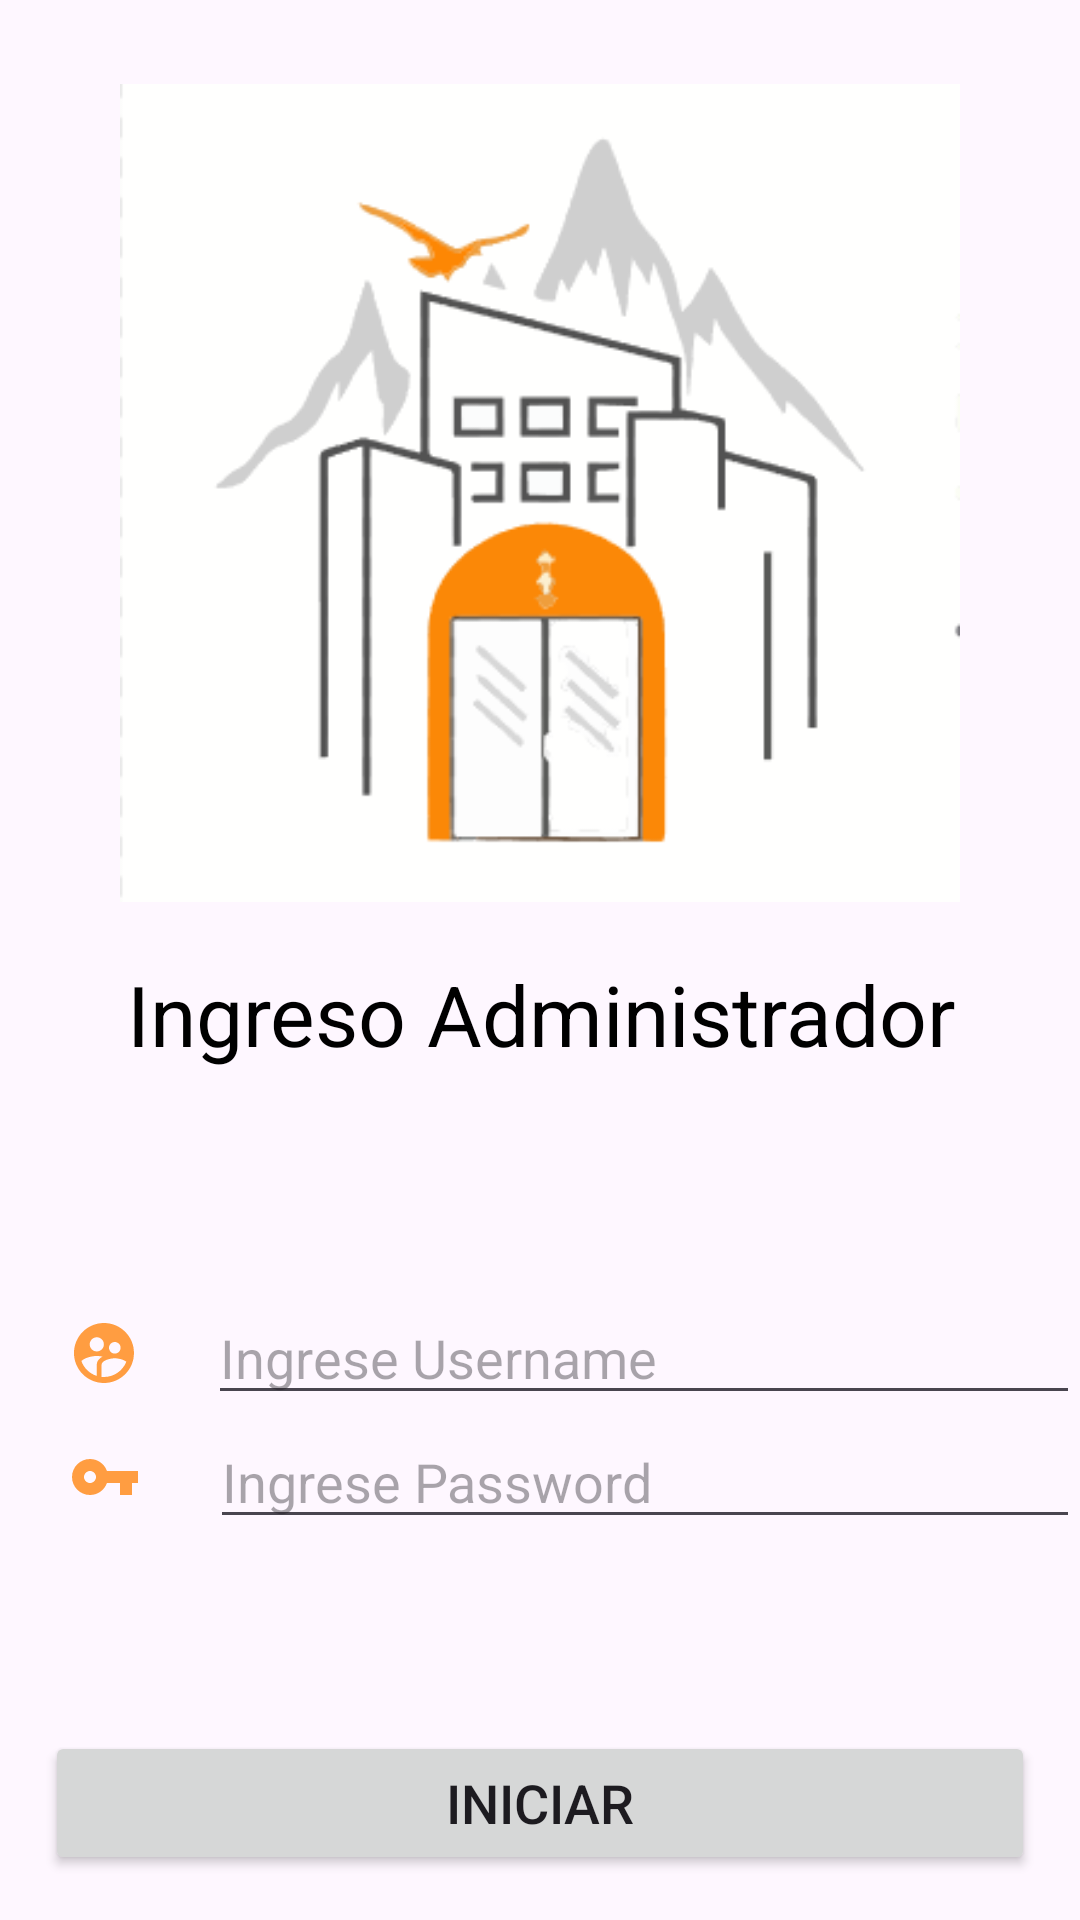

Icons on this 1080 x 1920 Android screen, each with the point to tap as (x,y):
key: (105,1477)
